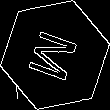M_E: (25, 25, 85, 85)
